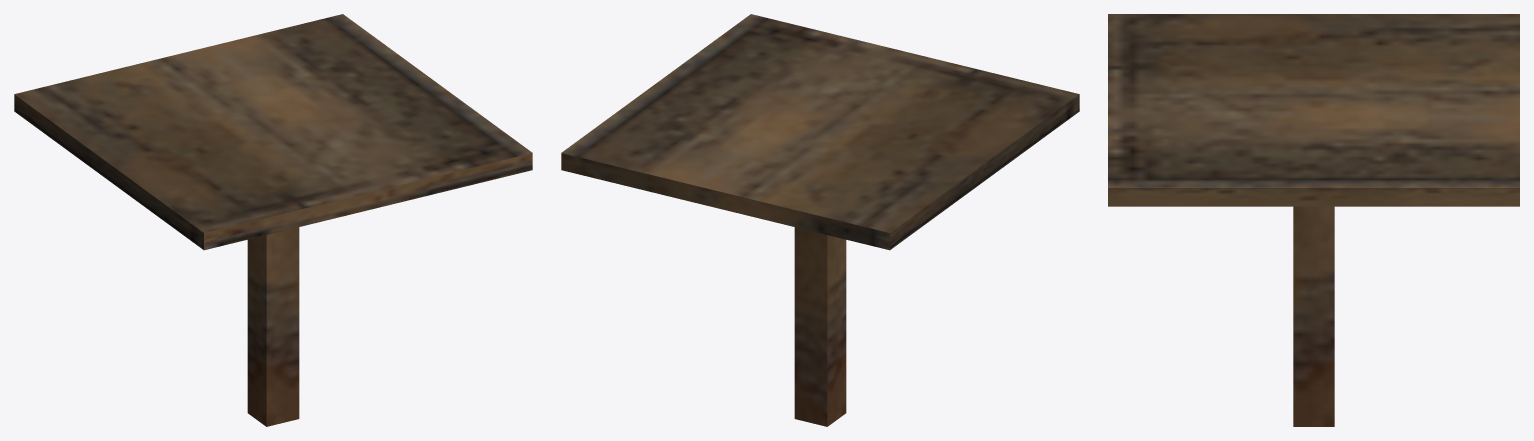
The model's file is chair.obj.
The picture shows the model from 3 angles, left to right: view 1: azimuth 30°, elevation 25°; view 2: azimuth 150°, elevation 25°; view 3: azimuth 270°, elevation 25°; orthographic projection. The views are drawn at different scales.
Parts seen in each view (by area): view 1: cube; view 2: cube; view 3: cube.
Boxes of the visible parts, <box> form: cube: <box>14,14,532,426</box>; cube: <box>561,14,1079,426</box>; cube: <box>1108,14,1519,426</box>.
Size of the model in its own units: 1.25 by 1.06 by 1.25.
